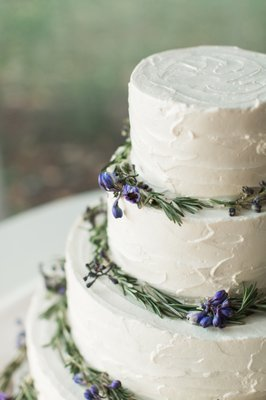sushi: (62, 162, 266, 400)
